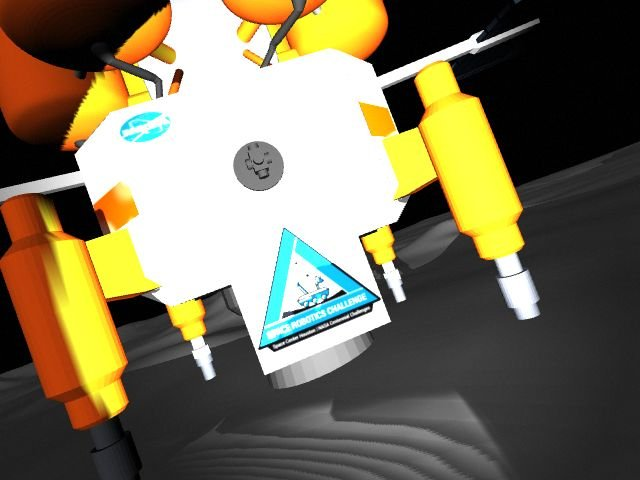basemarker: (258, 227, 382, 353)
